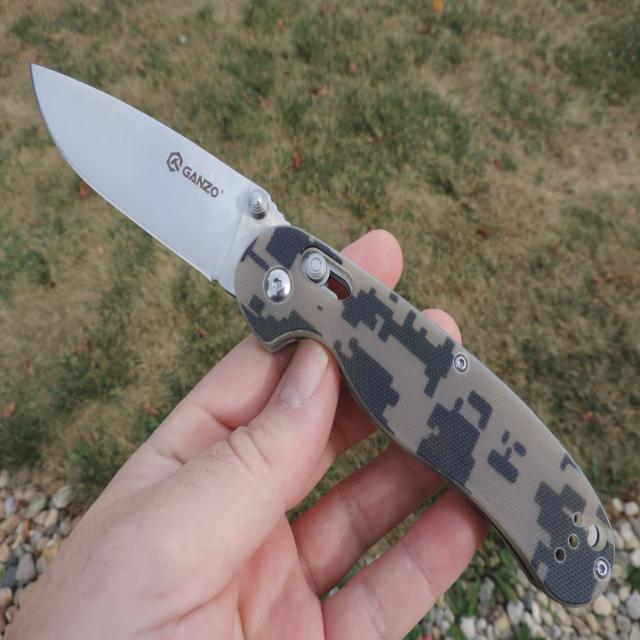knife: (30, 54, 620, 607)
